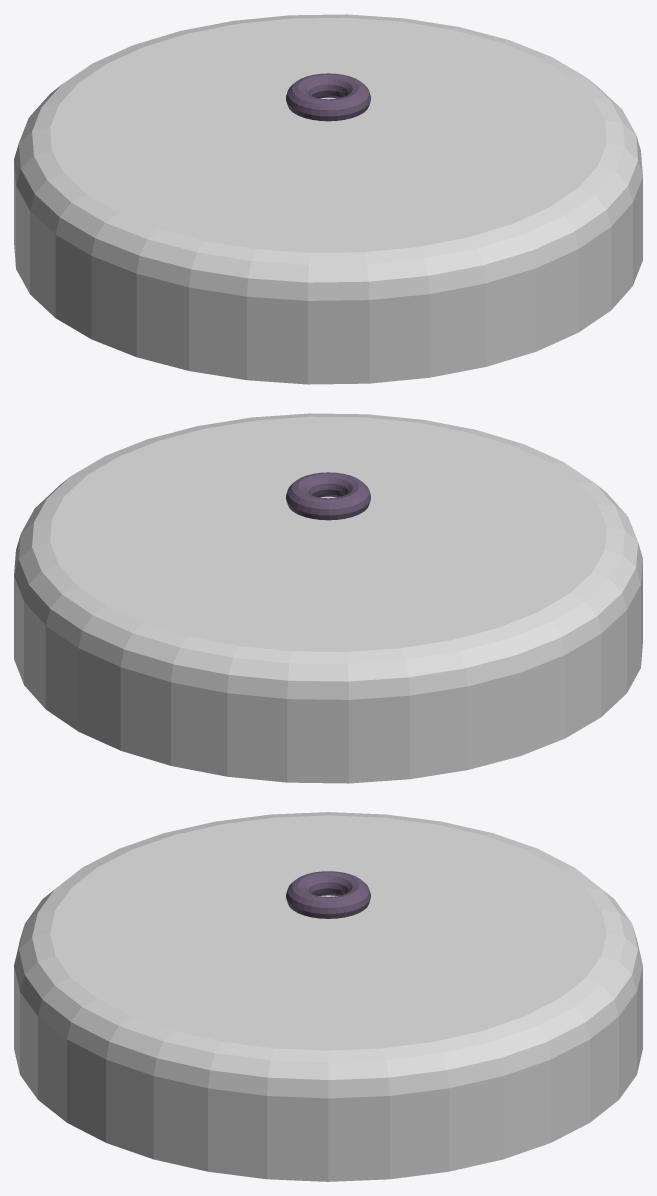
The model's file is led-holder.fbx.
The picture shows the model from 3 angles, top to bottom: view 1: azimuth 30°, elevation 25°; view 2: azimuth 150°, elevation 25°; view 3: azimuth 270°, elevation 25°; orthographic projection.
Parts seen in each view (by area): view 1: Cylinder, Torus.001; view 2: Cylinder, Torus.001; view 3: Cylinder, Torus.001.
Part boxes in pixels (<box>): Cylinder: <box>14,14,642,384</box>; Torus.001: <box>286,73,370,121</box>; Cylinder: <box>14,413,642,783</box>; Torus.001: <box>286,472,370,520</box>; Cylinder: <box>14,812,642,1181</box>; Torus.001: <box>286,871,370,918</box>.
Size of the model in its own units: 110 by 31.51 by 110.
